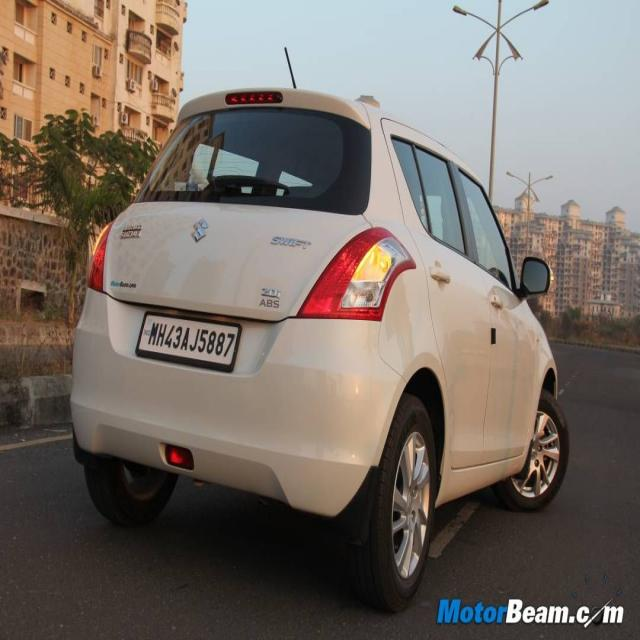Number-Plate: (133, 314, 241, 368)
